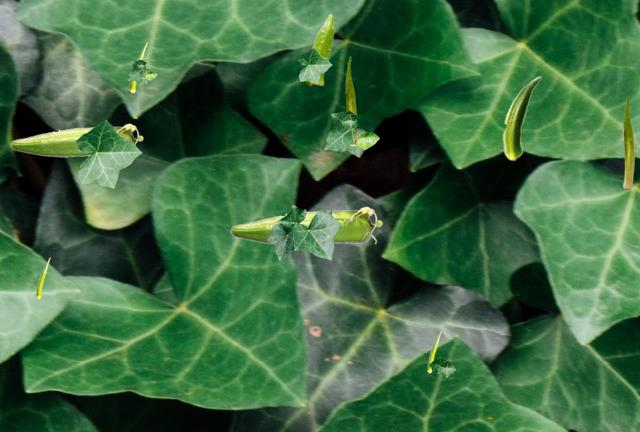okra: (230, 206, 381, 244), (10, 123, 142, 156), (502, 76, 540, 160), (306, 13, 333, 84), (623, 95, 633, 188), (129, 42, 146, 91), (345, 56, 355, 112), (36, 257, 49, 298), (427, 331, 440, 372)
